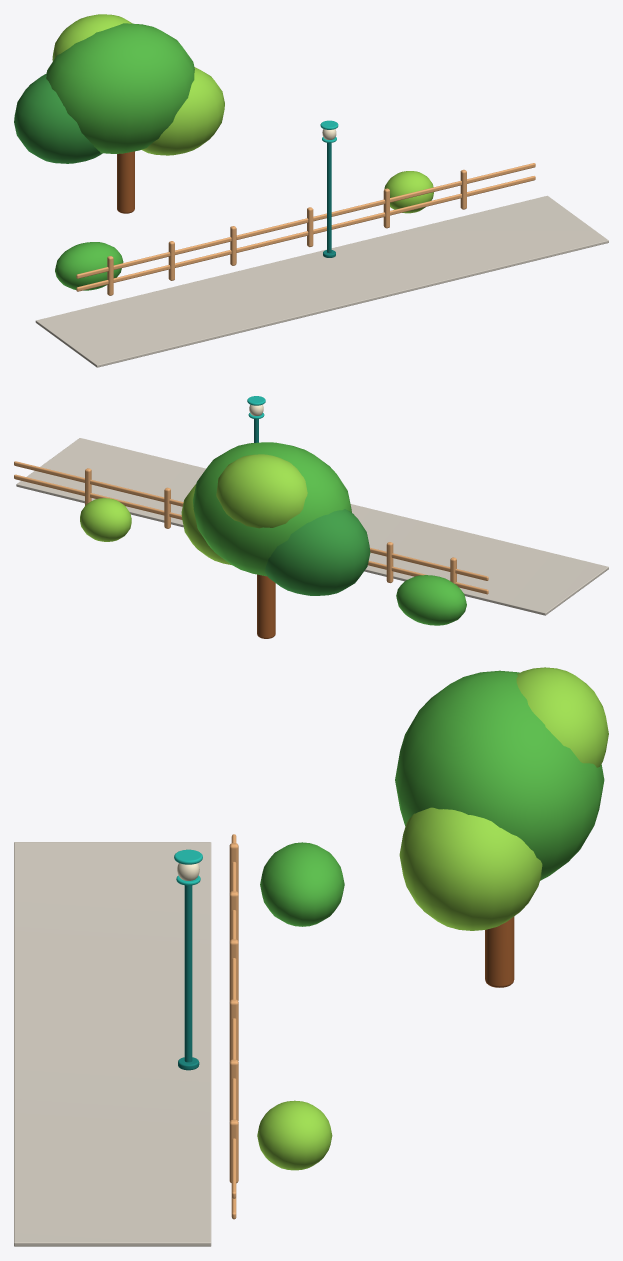
The model's file is StreetEast.fbx.
3 views of the same model, one above another, from view 1: azimuth 30°, elevation 25°; view 2: azimuth 150°, elevation 25°; view 3: azimuth 270°, elevation 25° (orthographic). The views are drawn at different scales.
Visible parts, largest first — view 1: StreetEast mesh; view 2: StreetEast mesh; view 3: StreetEast mesh.
Part boxes in pixels (x1,y1,x2,y2): StreetEast mesh: (14, 14, 608, 367); StreetEast mesh: (14, 396, 608, 638); StreetEast mesh: (14, 667, 608, 1246).
Size of the model in its own units: 12.5 by 4.51 by 7.84.
